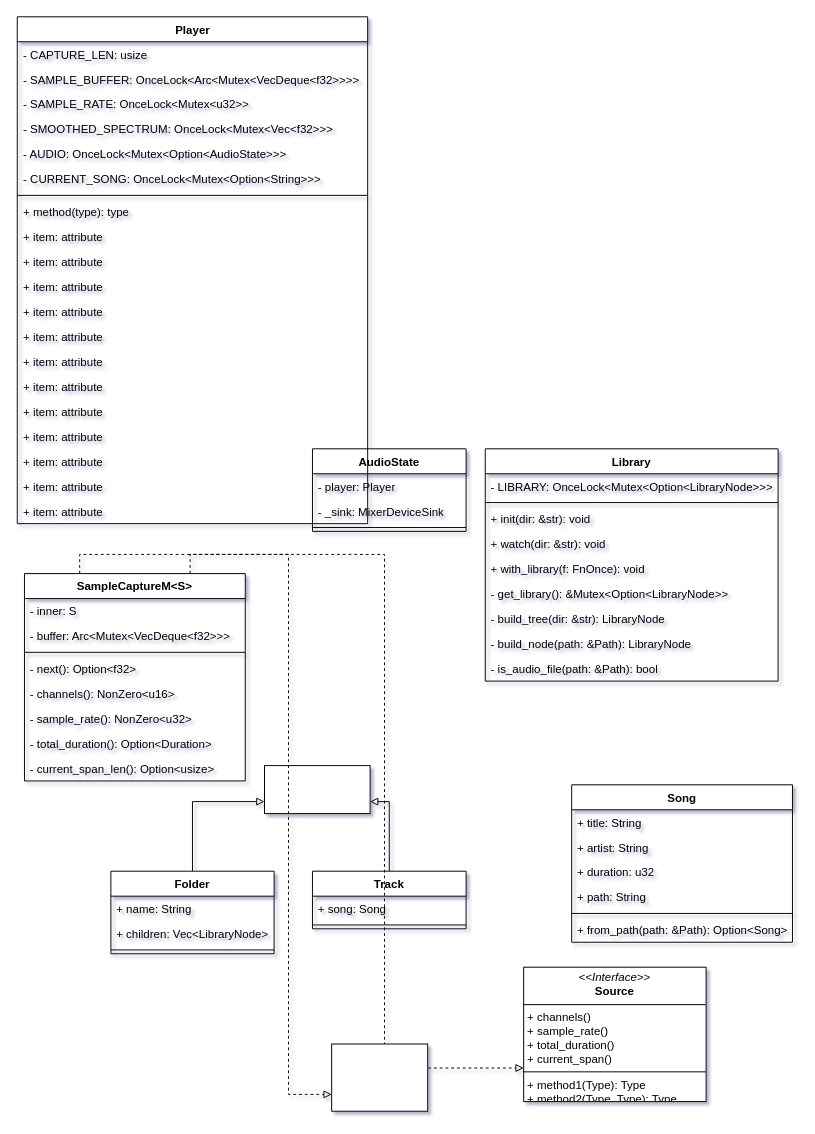
Some shapes in this 815 by 1134 pixel diagram are drawn without their labels. The shapes that lost their labels are listed below. From the top down, each one's centre as x and y in pixels, then its label:
point (317, 789): «abstract» LibraryNode
point (379, 1077): <<Interface>> Iterator + next()
